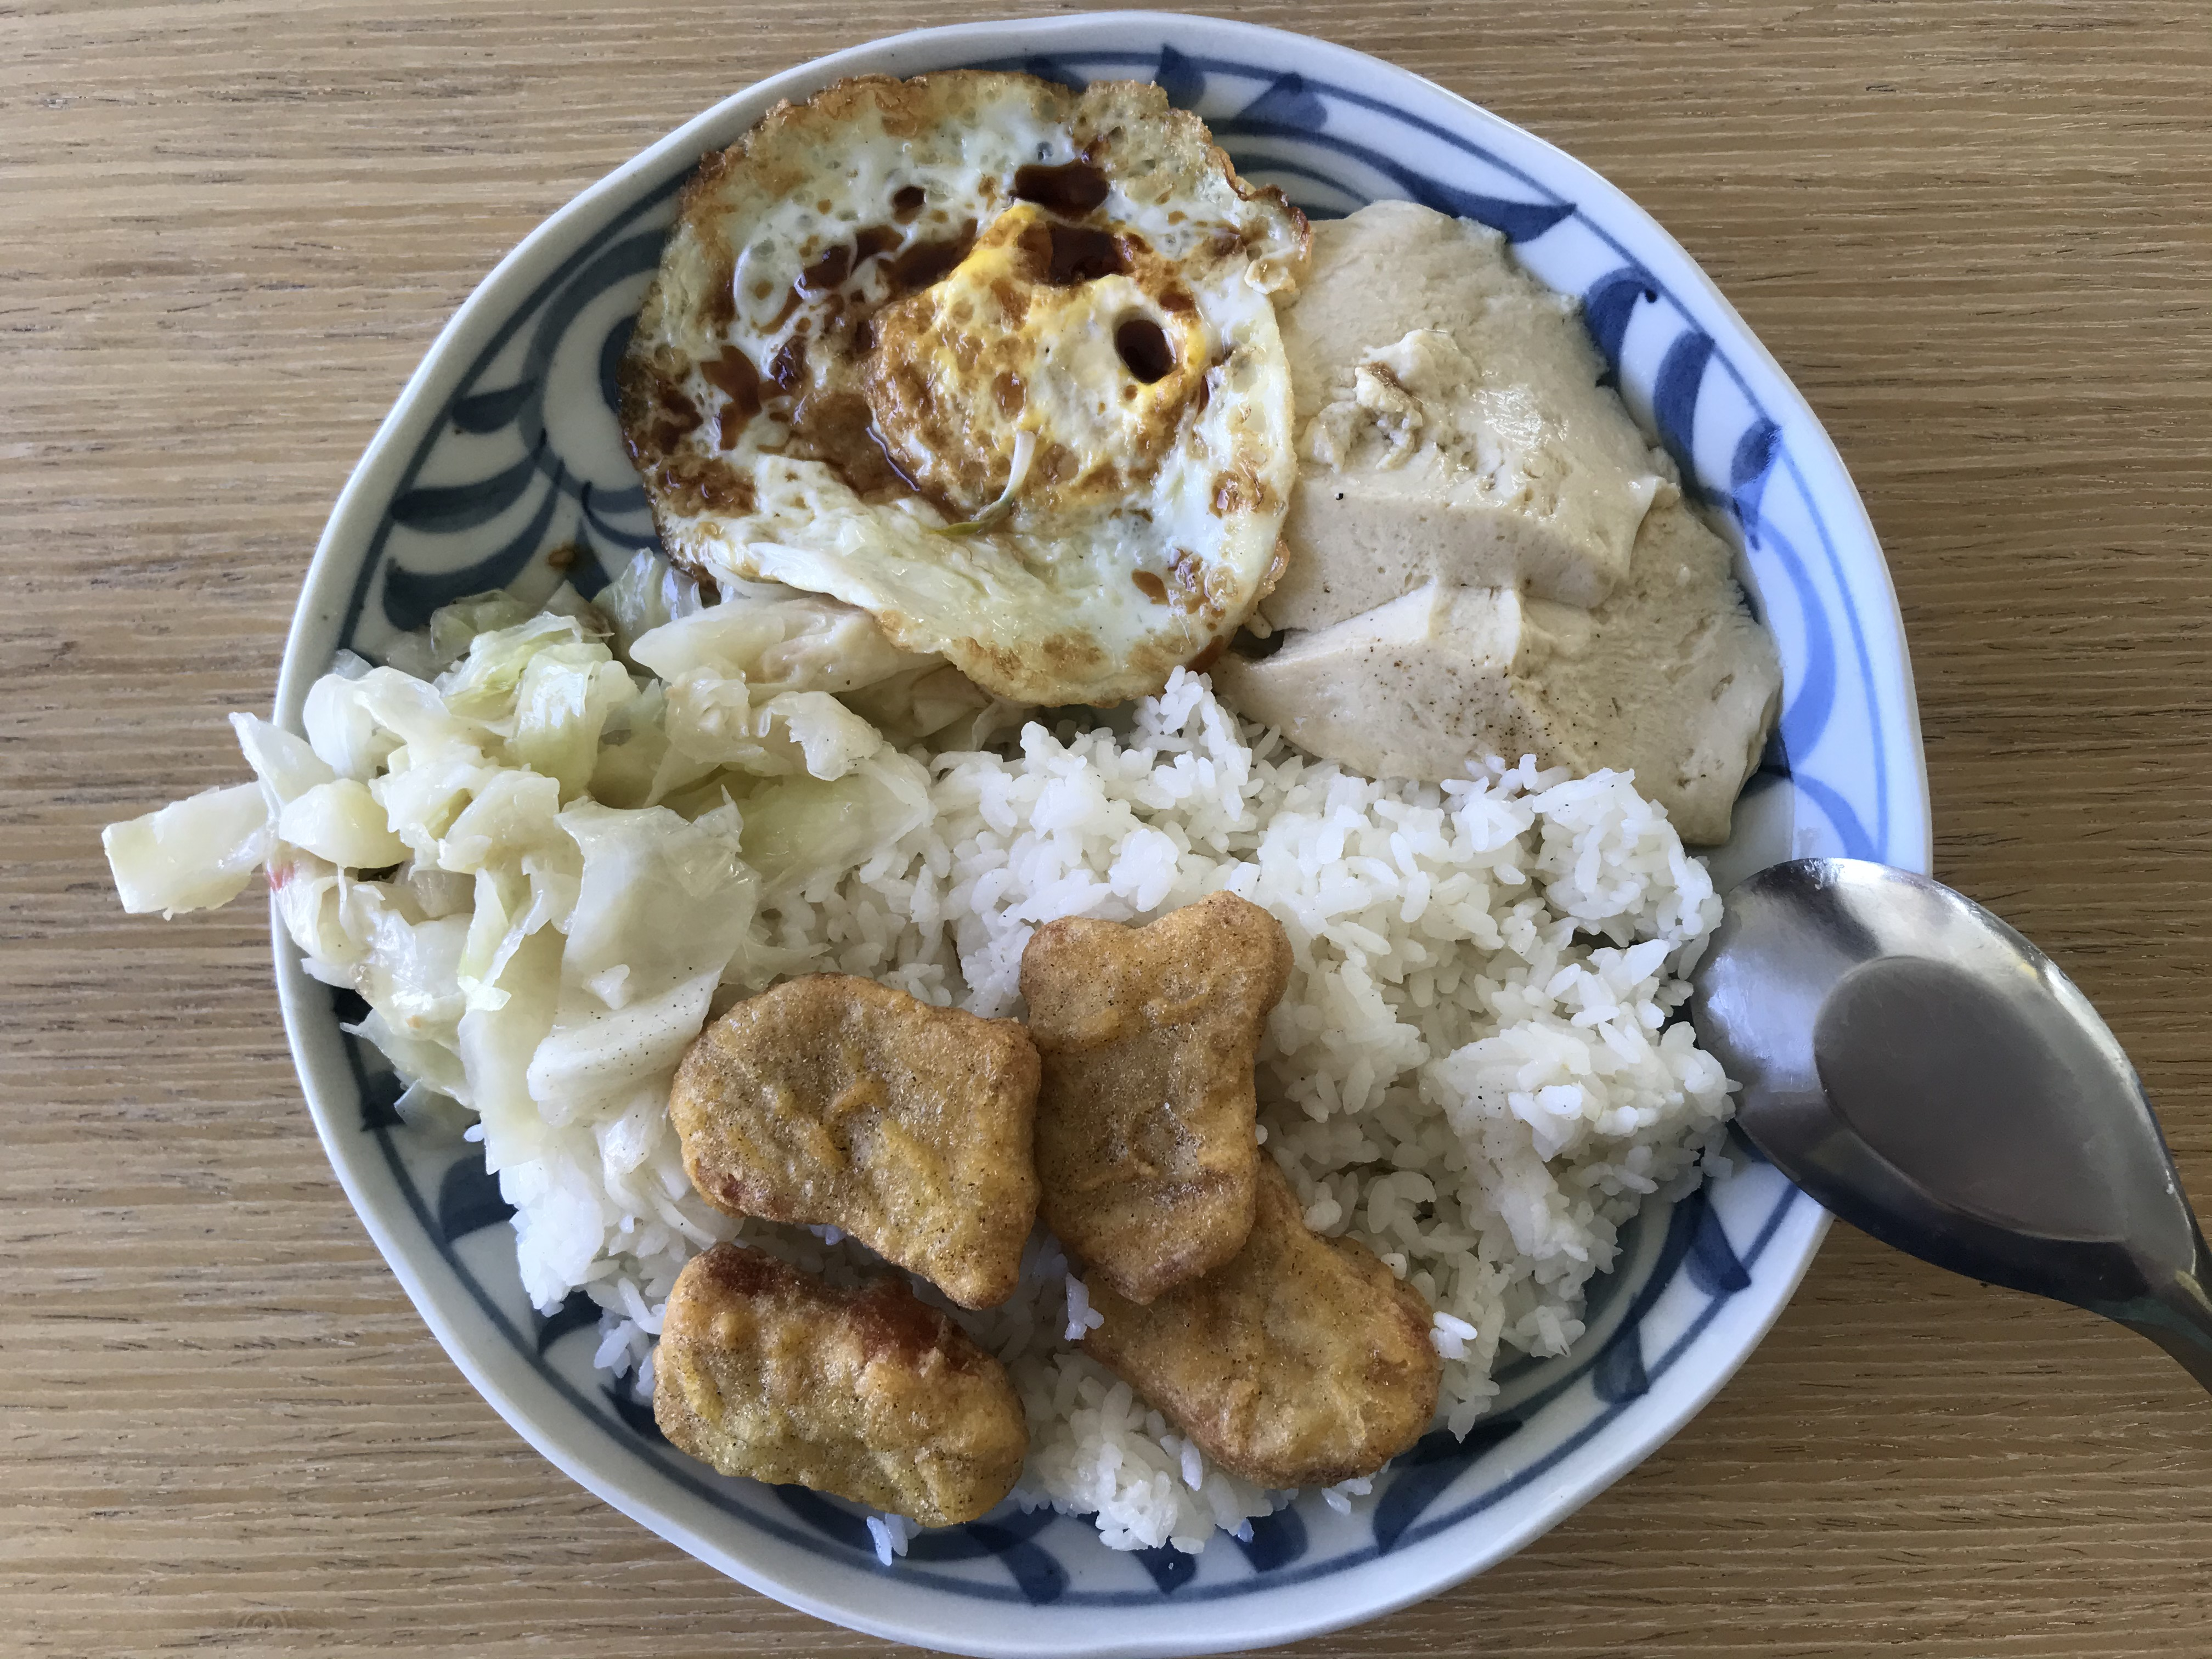chicken_nuggets: (658, 901, 1426, 1514)
chinese_cabbage: (282, 599, 749, 1201)
fried_eggs: (629, 70, 1292, 701)
rice: (1204, 704, 1730, 1316)
